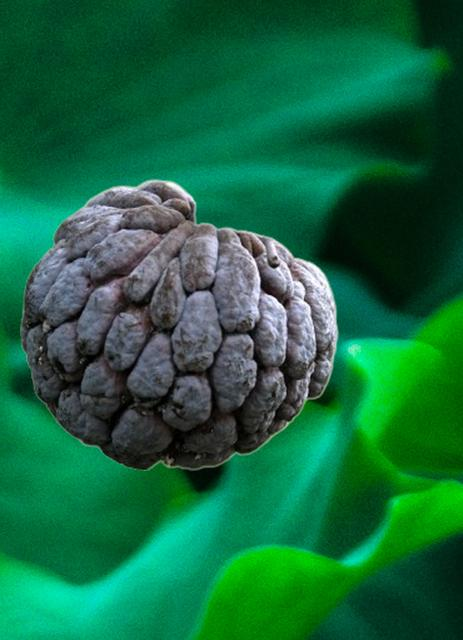atis: (20, 178, 337, 469)
